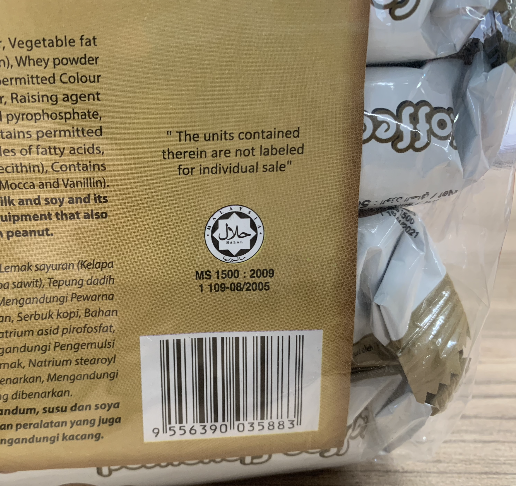halal: (213, 222, 255, 250)
